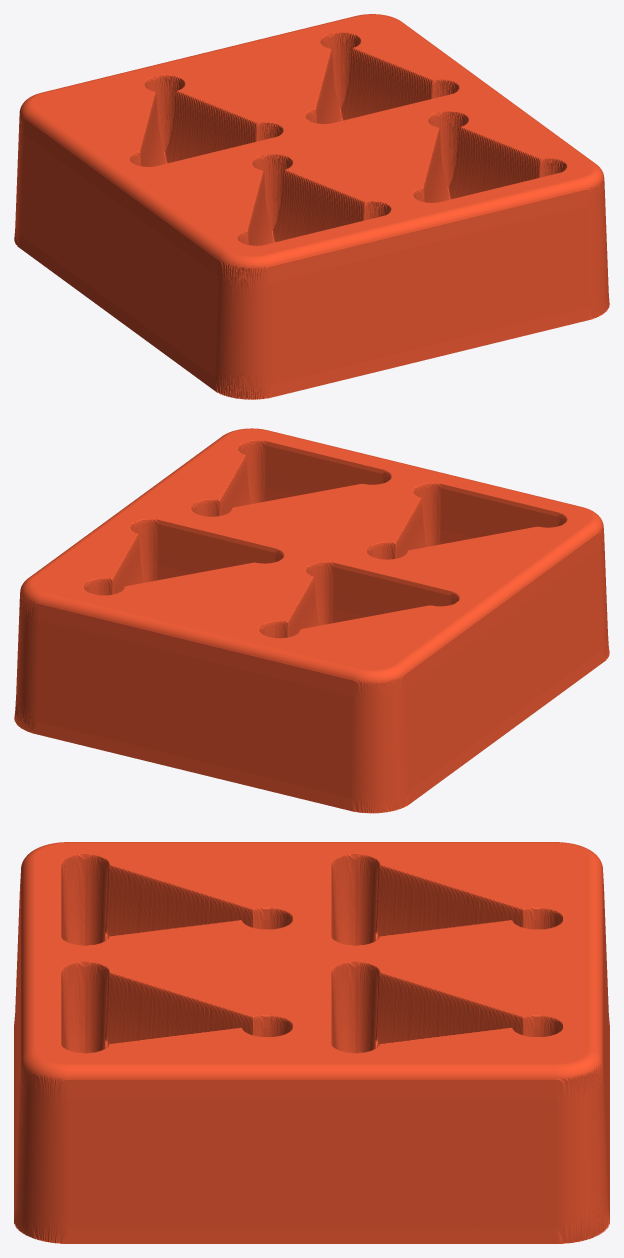
Rendered from mold.glb.
The picture shows the model from 3 angles, top to bottom: view 1: azimuth 30°, elevation 25°; view 2: azimuth 150°, elevation 25°; view 3: azimuth 270°, elevation 25°; orthographic projection. The views are drawn at different scales.
Visible parts, largest first — view 1: geometry_0; view 2: geometry_0; view 3: geometry_0.
Boxes of the visible parts, box(x1,y1,x2,y2) form: geometry_0: box(14, 14, 609, 399); geometry_0: box(14, 428, 609, 813); geometry_0: box(14, 842, 609, 1243).
Size of the model in its own units: 0.094 by 0.0314 by 0.0992.
